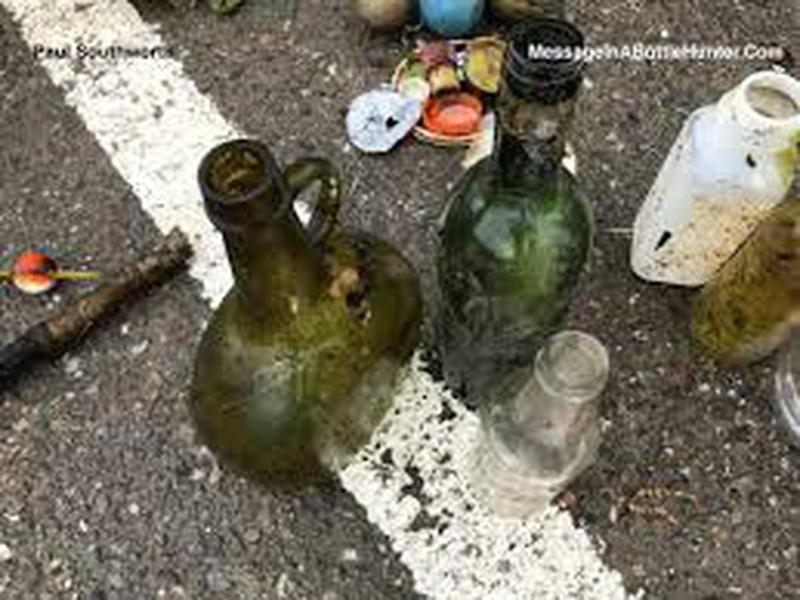bottle: (178, 127, 431, 509), (435, 16, 594, 432)
